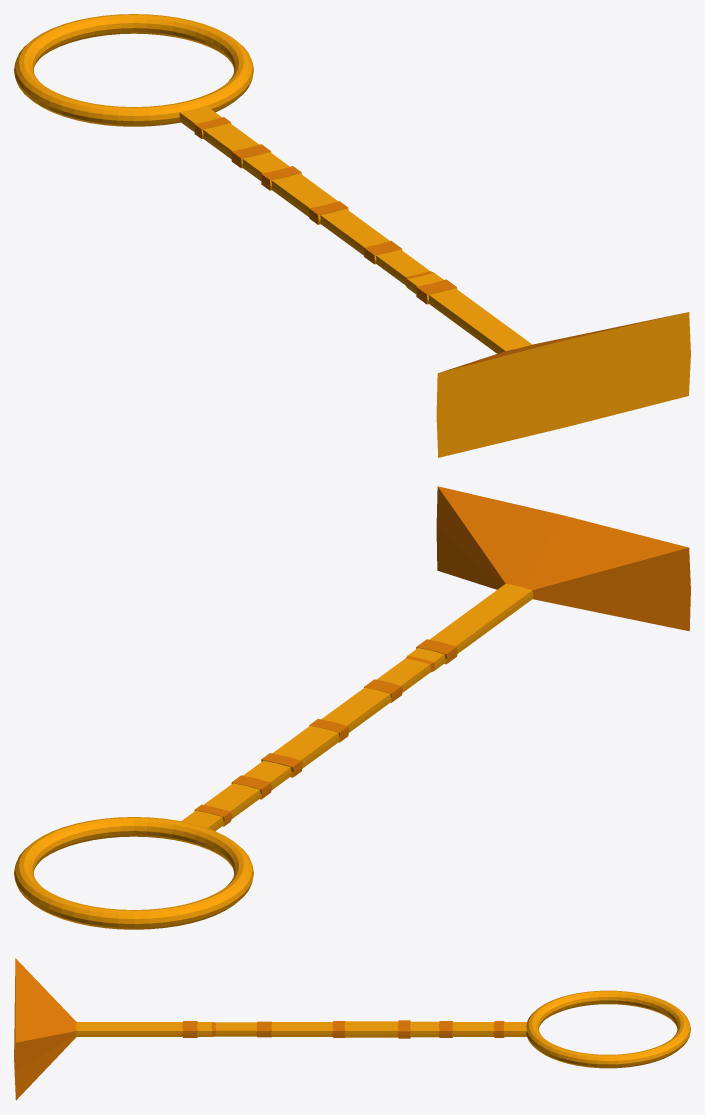
File: rings(1).fbx
3 views of the same model, one above another, from view 1: azimuth 30°, elevation 25°; view 2: azimuth 150°, elevation 25°; view 3: azimuth 270°, elevation 25° (orthographic). The views are drawn at different scales.
Parts seen in each view (by area): view 1: Torus.001; view 2: Torus.001; view 3: Torus.001.
Part boxes in pixels (<box>): Torus.001: <box>14,14,690,457</box>; Torus.001: <box>14,486,690,929</box>; Torus.001: <box>14,958,690,1100</box>.
Bounding box in the file's own units: 267 × 86.21 × 891.
